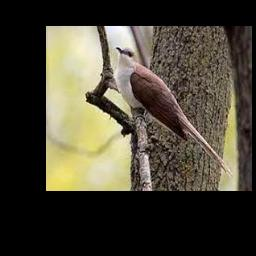Cuckoo: (116, 46, 233, 179)
